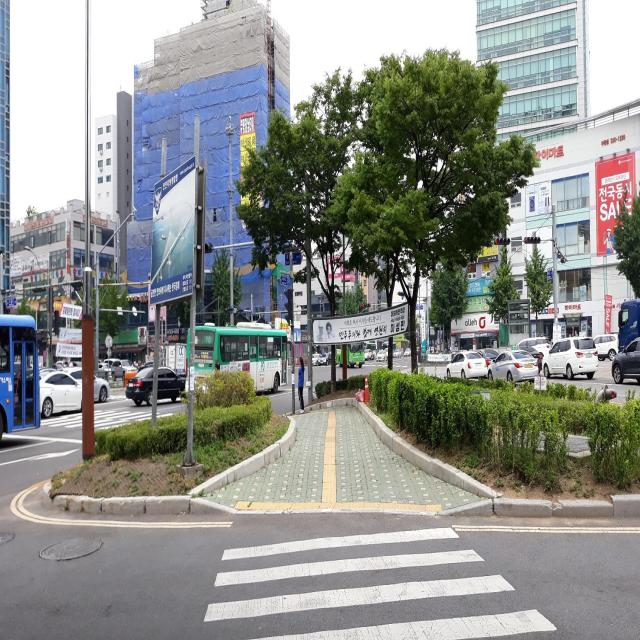횡단보도: (202, 525, 559, 636)
